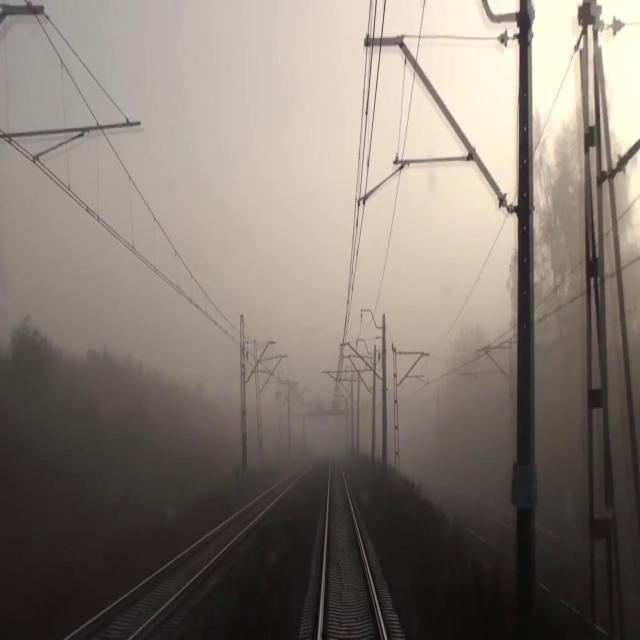rail-track: (74, 489, 278, 639), (323, 457, 383, 639)
